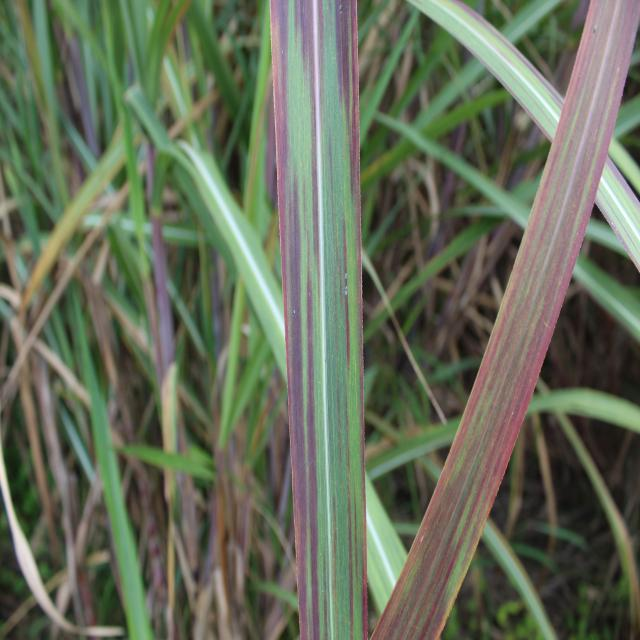Sugarcane: (373, 0, 640, 640), (268, 0, 368, 640)
